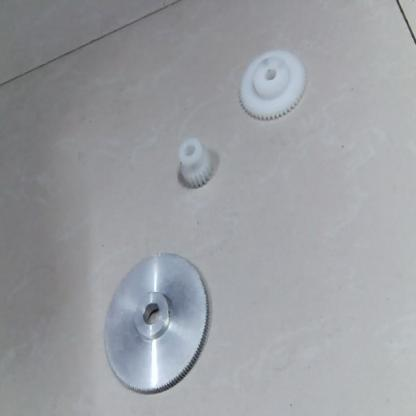FOD: (91, 245, 211, 396), (230, 48, 316, 123), (166, 134, 216, 194)
